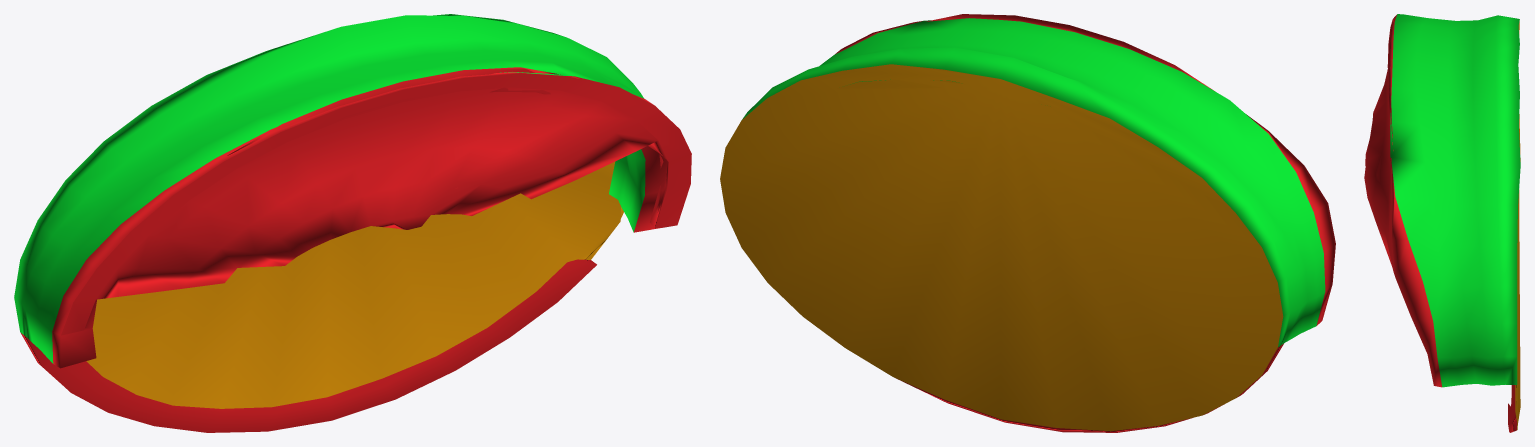
File: casa1.fbx
3 views of the same model, side by side, from view 1: azimuth 30°, elevation 25°; view 2: azimuth 150°, elevation 25°; view 3: azimuth 270°, elevation 25° (orthographic). The views are drawn at different scales.
Parts seen in each view (by area): view 1: Cylinder.001; view 2: Cylinder.001; view 3: Cylinder.001.
Boxes of the visible parts, left/top/right/bottom form: Cylinder.001: left=14, top=14, right=691, bottom=432; Cylinder.001: left=720, top=14, right=1335, bottom=432; Cylinder.001: left=1364, top=14, right=1520, bottom=432.
Bounding box in the file's own units: 13.7 × 8.24 × 3.42.
